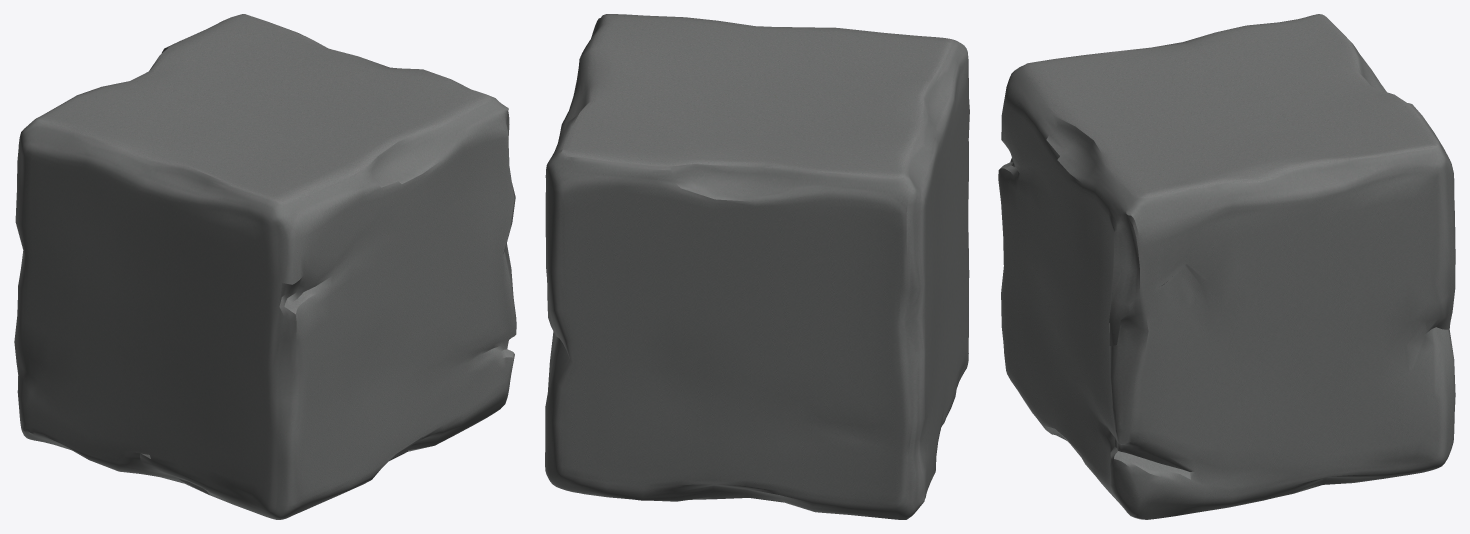
Rendered from brick_cinder_cinder.glb.
The picture shows the model from 3 angles, left to right: view 1: azimuth 30°, elevation 25°; view 2: azimuth 150°, elevation 25°; view 3: azimuth 270°, elevation 25°; orthographic projection. The views are drawn at different scales.
Parts seen in each view (by area): view 1: Mesh_0; view 2: Mesh_0; view 3: Mesh_0.
Boxes of the visible parts, x1,y1,x2,y2 form: Mesh_0: (14,14,516,519); Mesh_0: (545,14,969,519); Mesh_0: (998,14,1455,519).
Size of the model in its own units: 1.9 by 1.47 by 1.84.
Materials: 1 (1 with a texture image).
